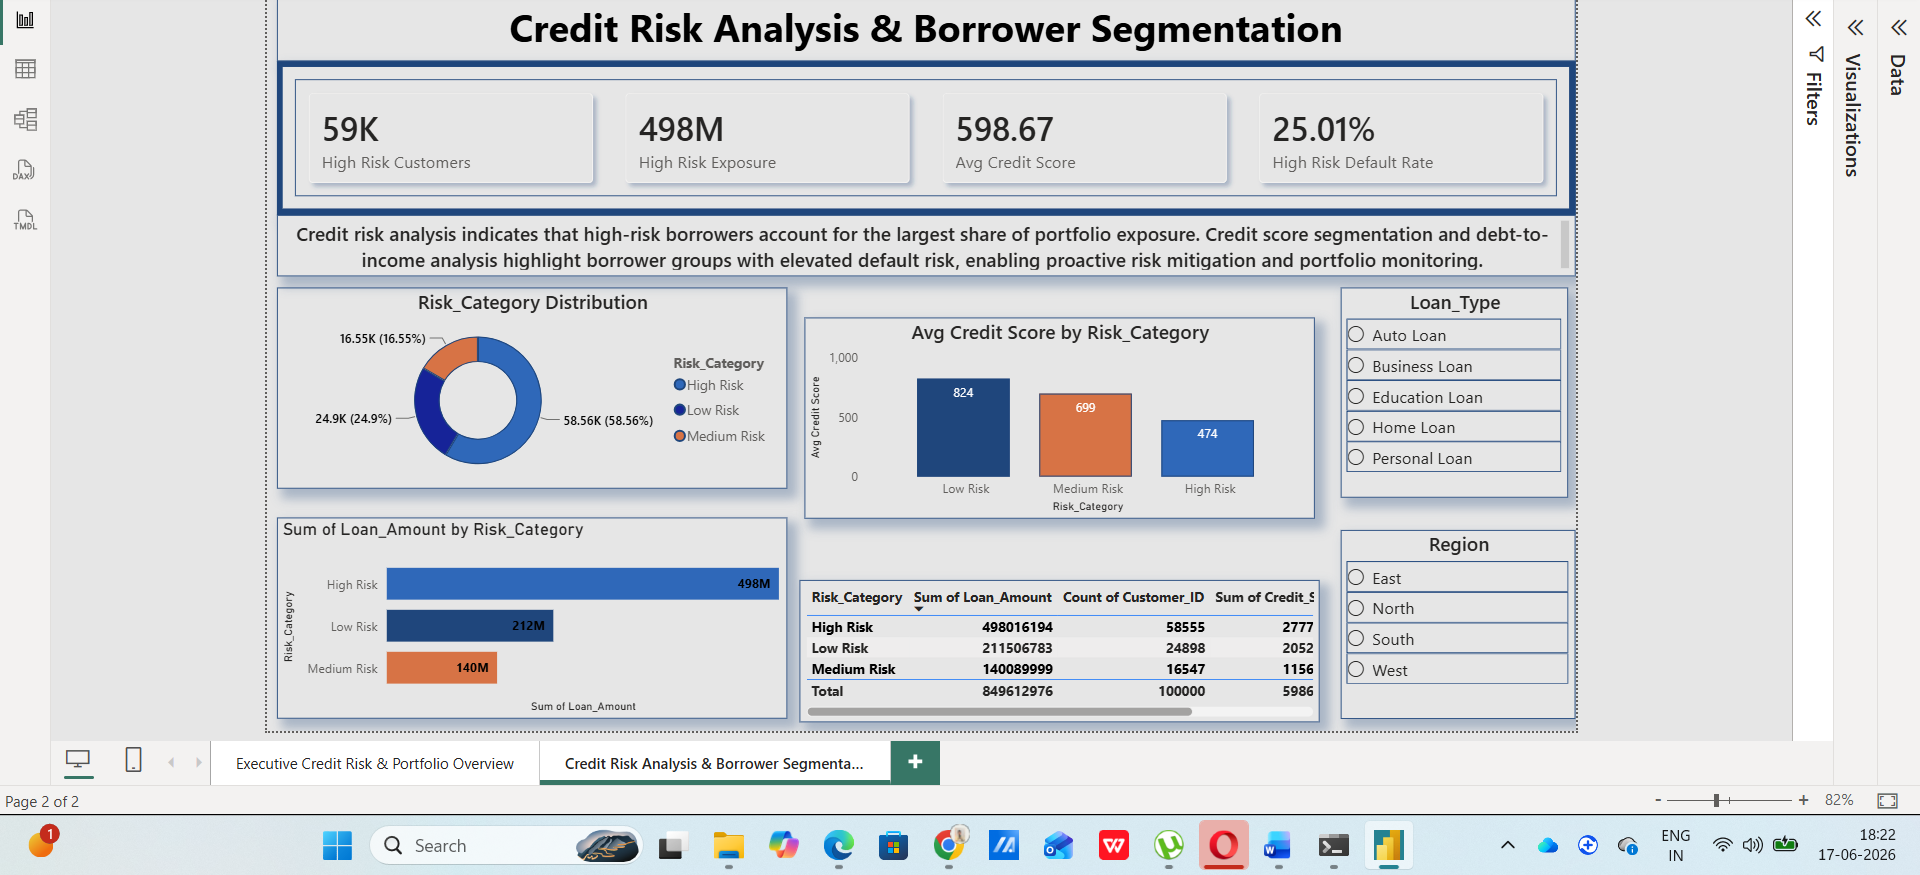

What the dashboard file says about the page in this screenshot:
{"tool":"powerbi","page":{"name":"Credit Risk Analysis & Borrower Segmentation","canvas":[1280,720],"ordinal":1},"visuals":[{"type":"textbox","box":[9.8,0,1270.5,64.8],"z":0},{"type":"cardVisual","fields":{"Data":["enterprise_credit_risk_dataset.High Risk Customers","enterprise_credit_risk_dataset.High Risk Exposure","enterprise_credit_risk_dataset.Avg Credit Score","enterprise_credit_risk_dataset.High Risk Default Rate"]},"box":[9.8,64.8,1270.5,150.4],"z":1000},{"type":"donutChart","title":"Risk_Category Distribution","fields":{"Category":["enterprise_credit_risk_dataset.Risk_Category"],"Y":["CountNonNull(enterprise_credit_risk_dataset.Customer_ID)"]},"box":[9.8,286.1,498.9,196.9],"z":2000},{"type":"clusteredColumnChart","fields":{"Category":["enterprise_credit_risk_dataset.Risk_Category"],"Y":["enterprise_credit_risk_dataset.Avg Credit Score"]},"box":[525.8,315.5,498.9,196.9],"z":3000},{"type":"clusteredBarChart","fields":{"Category":["enterprise_credit_risk_dataset.Risk_Category"],"Y":["Sum(enterprise_credit_risk_dataset.Loan_Amount)"]},"box":[9.8,511.1,498.9,196.9],"z":4000},{"type":"tableEx","fields":{"Values":["enterprise_credit_risk_dataset.Risk_Category","Sum(enterprise_credit_risk_dataset.Loan_Amount)","CountNonNull(enterprise_credit_risk_dataset.Customer_ID)","Sum(enterprise_credit_risk_dataset.Credit_Score)","Sum(enterprise_credit_risk_dataset.DTI_Ratio)"]},"box":[520.9,572.3,508.7,139.4],"z":6000},{"type":"textbox","box":[9.8,215.2,1270.5,59.9],"z":6001},{"type":"listSlicer","fields":{"Values":["enterprise_credit_risk_dataset.Loan_Type"]},"box":[1050.4,286.1,222.6,205.4],"z":6002},{"type":"listSlicer","fields":{"Values":["enterprise_credit_risk_dataset.Region"]},"box":[1050.4,523.4,229.9,184.6],"z":6003}]}

Visuals, with their boxes on the page's 1280x720 design canvas (x1, y1, x2, y2). These are canvas units, not pixel positions in the 1920x875 screenshot, which may show the page scaled, cropped or inside an application window:
textbox: 10/0/1280/65
cardVisual - enterprise_credit_risk_dataset.High Risk Customers x enterprise_credit_risk_dataset.High Risk Exposure: 10/65/1280/215
"Risk_Category Distribution" donutChart: 10/286/509/483
clusteredColumnChart - enterprise_credit_risk_dataset.Risk_Category x enterprise_credit_risk_dataset.Avg Credit Score: 526/316/1025/512
clusteredBarChart - enterprise_credit_risk_dataset.Risk_Category x Sum(enterprise_credit_risk_dataset.Loan_Amount): 10/511/509/708
tableEx - enterprise_credit_risk_dataset.Risk_Category x Sum(enterprise_credit_risk_dataset.Loan_Amount): 521/572/1030/712
textbox: 10/215/1280/275
listSlicer - enterprise_credit_risk_dataset.Loan_Type: 1050/286/1273/492
listSlicer - enterprise_credit_risk_dataset.Region: 1050/523/1280/708
